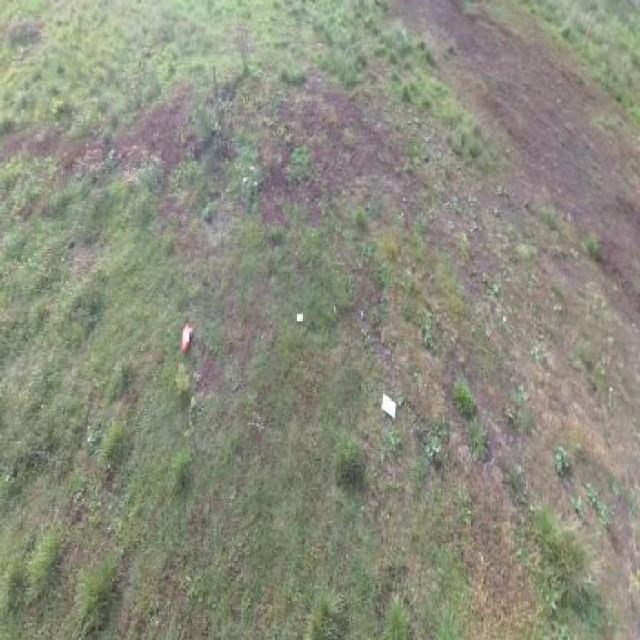Garbage: (381, 392, 397, 420), (181, 320, 193, 354), (296, 311, 304, 322), (359, 309, 364, 319)
